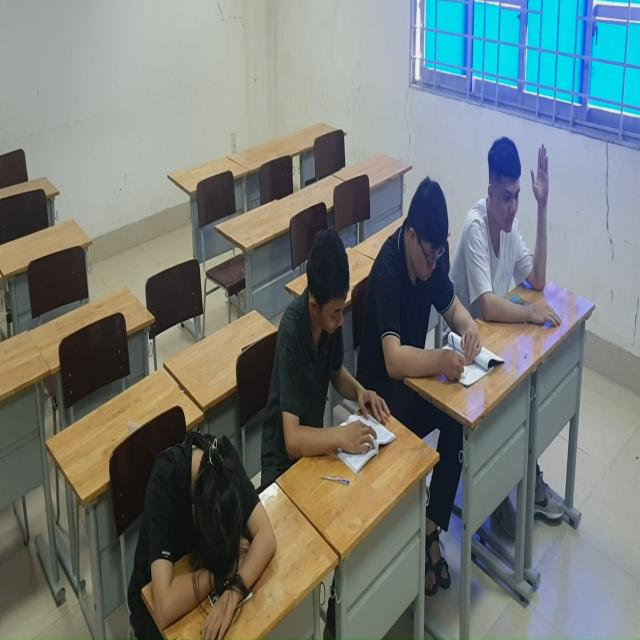raise_hand: (469, 126, 558, 344)
read: (266, 220, 395, 488), (373, 178, 485, 425)
sleep: (124, 439, 295, 640)
